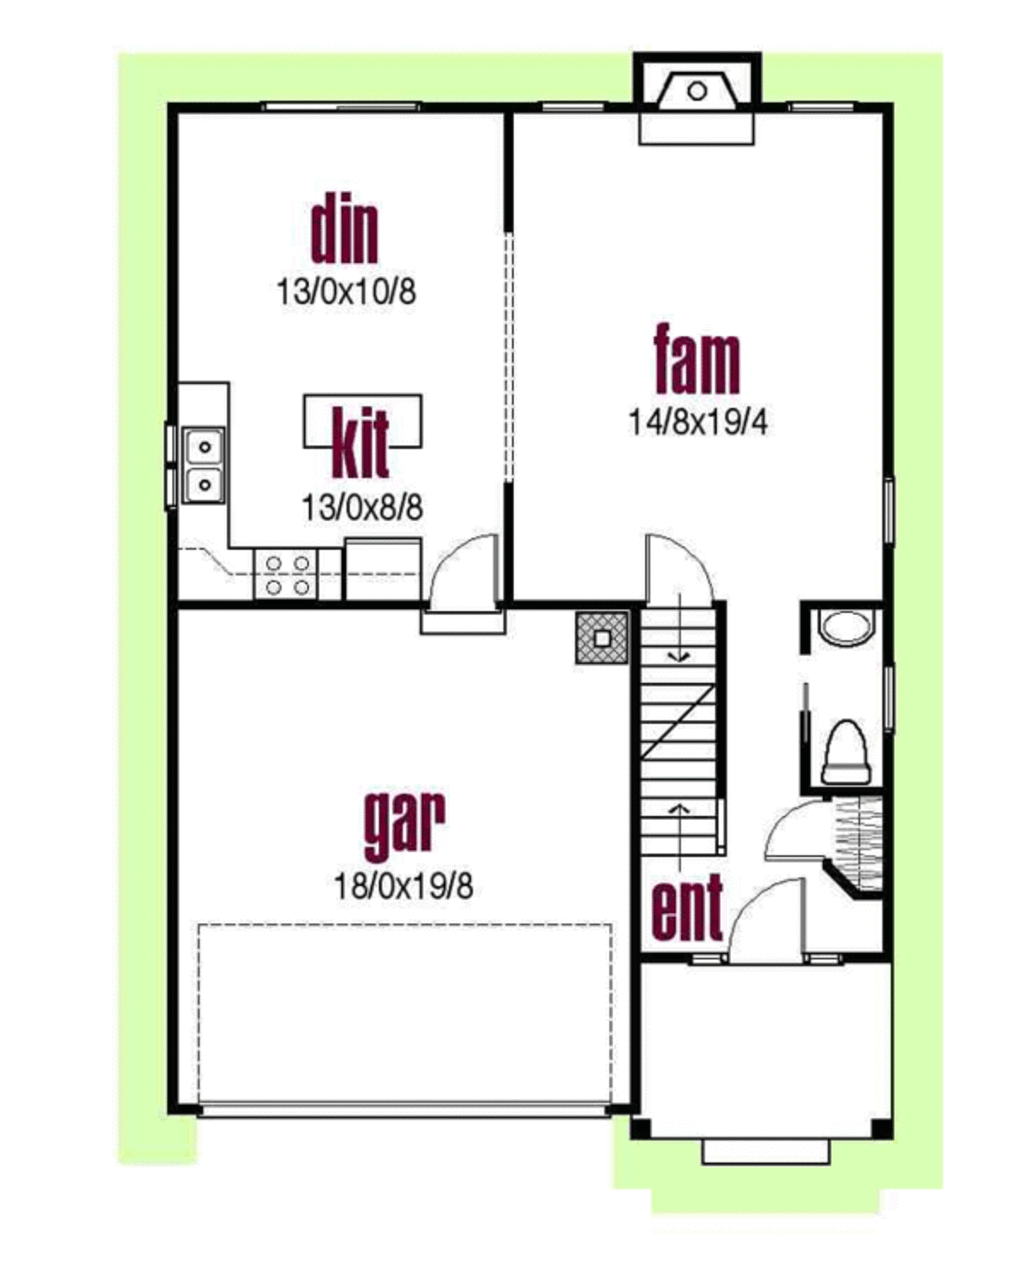door: (403, 522, 526, 646), (610, 522, 752, 624), (722, 879, 820, 964), (752, 797, 850, 866)
stairs: (632, 607, 744, 860)
twin_sink: (183, 432, 238, 505)
window: (234, 97, 453, 121), (875, 466, 924, 560), (779, 97, 861, 126), (528, 91, 603, 119), (887, 662, 899, 730)
